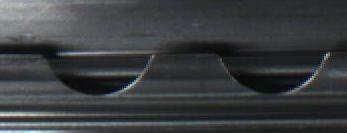twou: (47, 45, 307, 102)
